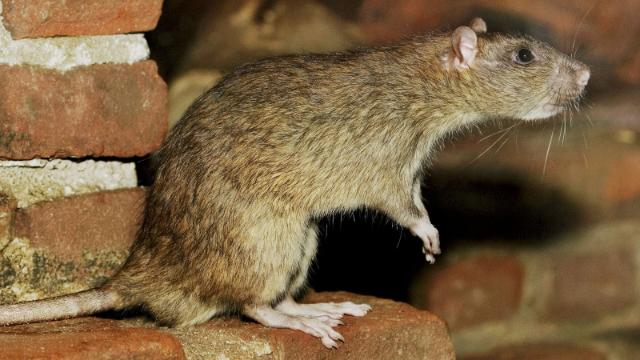rat: (60, 11, 602, 355)
